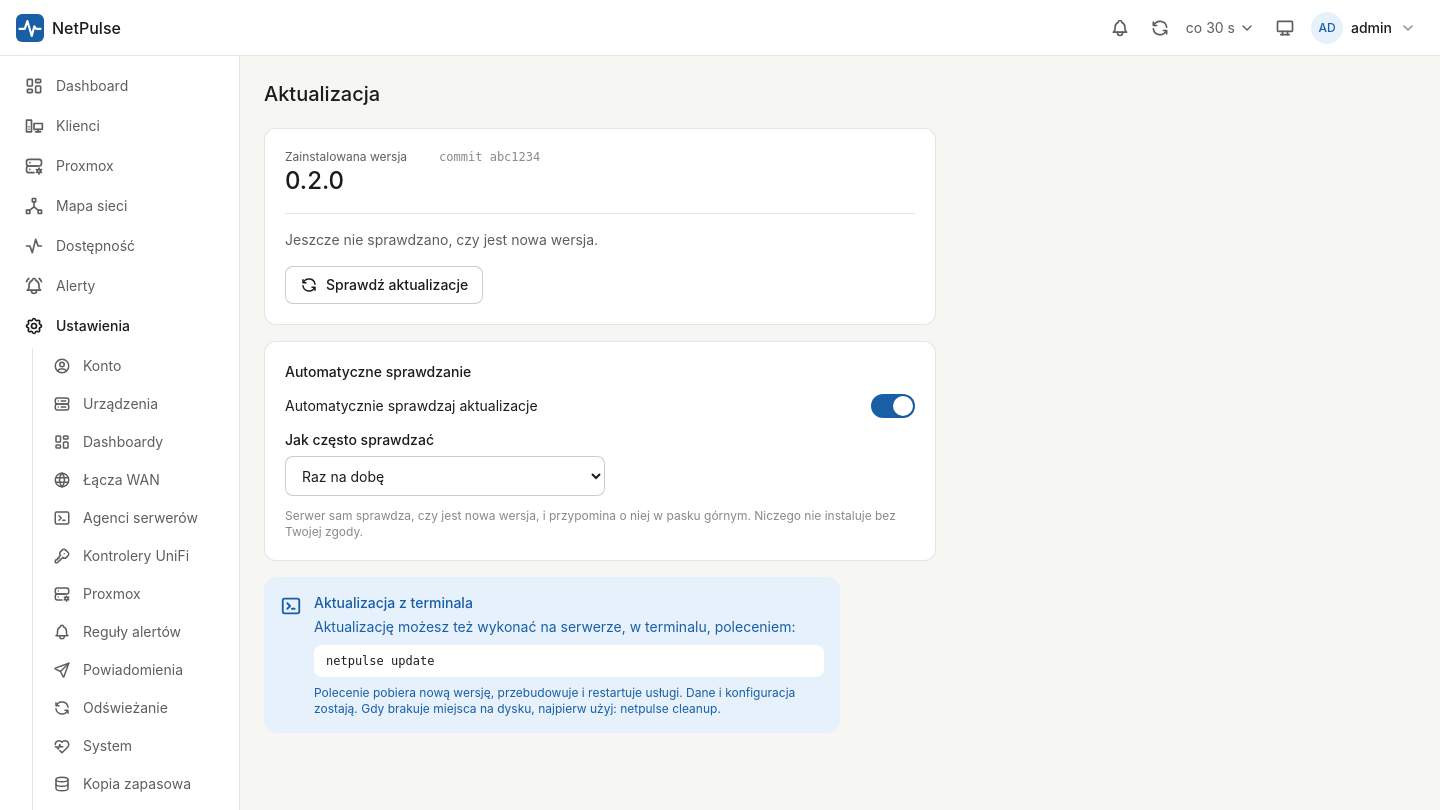
Test: sprawdzanie aktualizacji › skraca długą listę zmian
Expected: the heading "Aktualizacja" is shown, [264, 80, 380, 108]
What coordinates should you click on to do the following:
click the button "Sprawdź aktualizacje"
I would click on:
 (384, 285)
Its box is [285, 266, 483, 304].
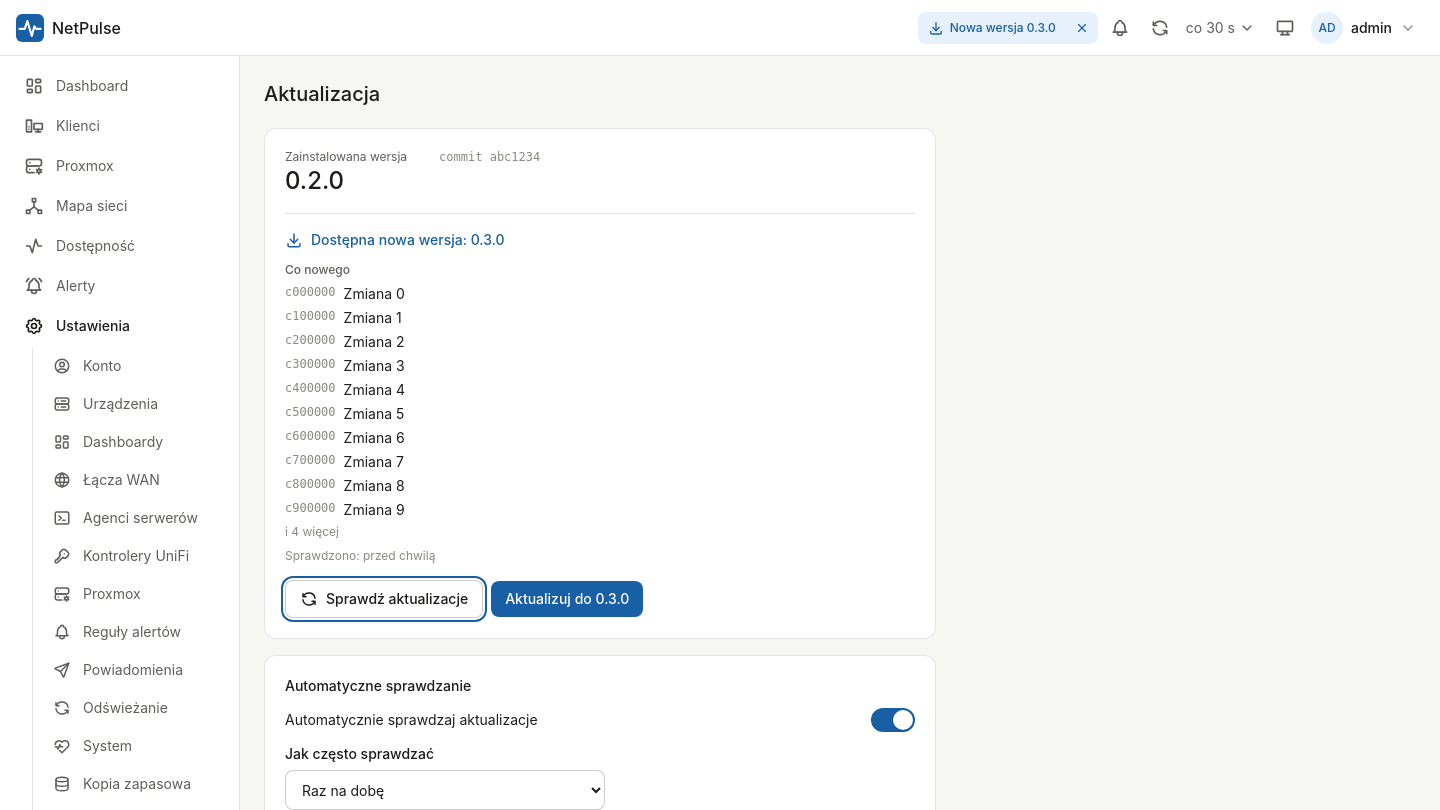
Result: the text "Zmiana 9" is shown at [344, 500, 405, 520]
Result: the text "i 4 więcej" is shown at [285, 524, 339, 539]
